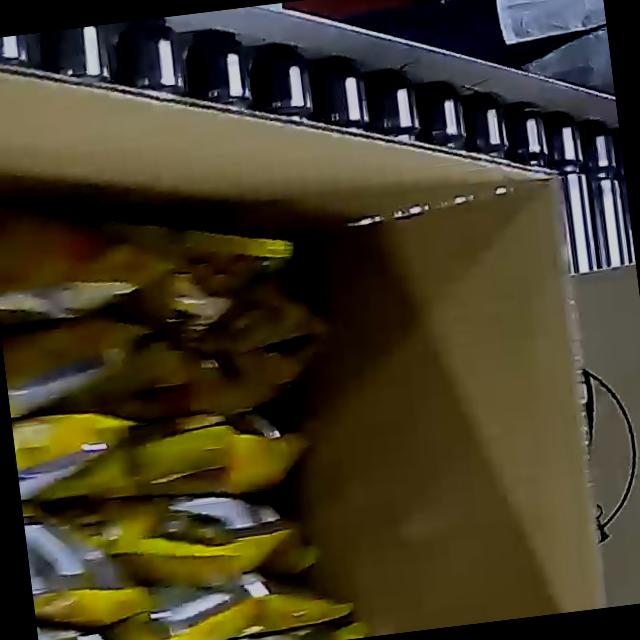salted: (0, 143, 373, 640)
